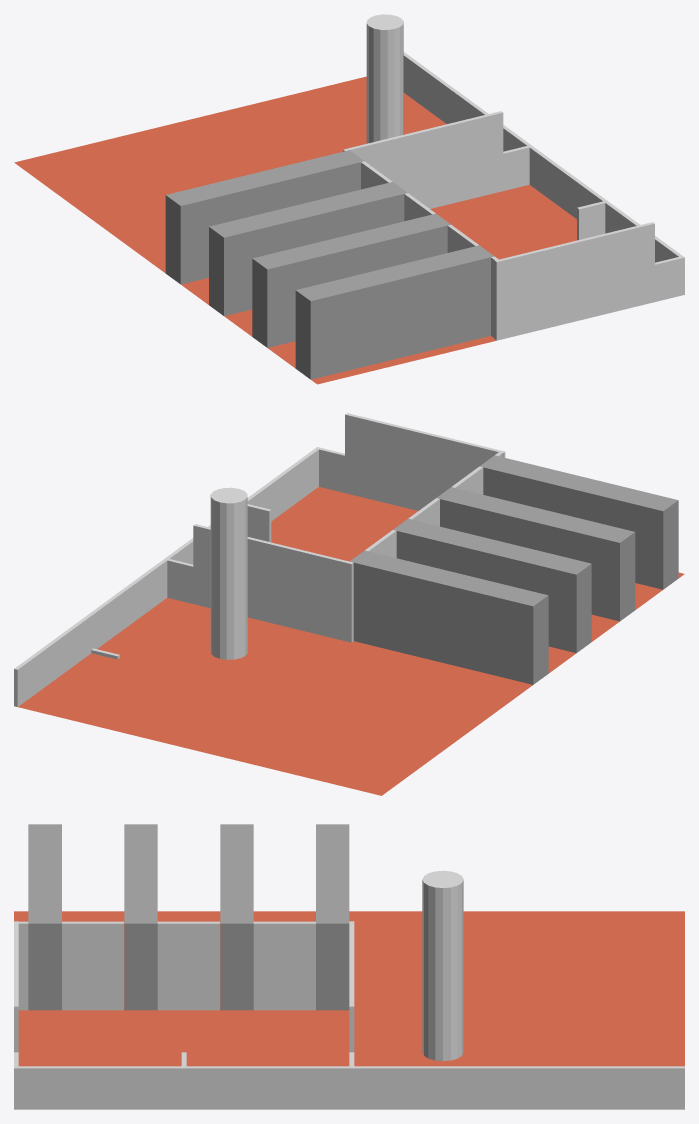
File: biblioteca-collisioni.dae
The picture shows the model from 3 angles, top to bottom: view 1: azimuth 30°, elevation 25°; view 2: azimuth 150°, elevation 25°; view 3: azimuth 270°, elevation 25°; orthographic projection. The views are drawn at different scales.
Parts seen in each view (by area): view 1: Pavimento.005, Placeholder.003, Cube.009, Placeholder.001, Placeholder.002, Placeholder, Cube.008, Cube, Cylinder, Cube.003, Cube.001, Cube.002; view 2: Pavimento.005, Placeholder, Placeholder.002, Placeholder.003, Placeholder.001, Cube.008, Cube.009, Cube, Cylinder, Cube.003, Cube.001, Cube.002; view 3: Pavimento.005, Cube, Cylinder, Placeholder.003, Placeholder.002, Placeholder.001, Placeholder, Cube.006, Cube.005, Cube.007, Cube.010, Cube.008 (+1 smaller).
Part boxes in pixels (x1,y1,x2,y2): Pavimento.005: (14,76,576,384); Placeholder.003: (295,245,494,379); Cube.009: (494,222,654,340); Placeholder.001: (209,182,407,316); Placeholder.002: (252,213,450,347); Placeholder: (165,150,364,284); Cube.008: (343,111,503,208); Cube: (403,52,684,295); Cylinder: (366,14,403,143); Cube.003: (503,146,529,190); Cube.001: (655,257,681,301); Cube.002: (577,201,605,240); Pavimento.005: (18,487,684,795); Placeholder: (350,550,548,684); Placeholder.002: (436,487,635,621); Placeholder.003: (480,455,678,589); Placeholder.001: (393,519,591,653); Cube.008: (193,524,353,642); Cube.009: (345,413,505,510); Cube: (14,447,320,706); Cylinder: (210,487,247,659); Cube.003: (167,559,193,603); Cube.001: (319,448,344,492); Cube.002: (247,504,271,542); Pavimento.005: (14,911,684,1066); Cube: (14,1066,684,1109); Cylinder: (422,870,463,1061); Placeholder.003: (28,824,61,1010); Placeholder.002: (124,824,157,1010); Placeholder.001: (220,824,253,1010); Placeholder: (316,824,349,1010); Cube.006: (157,921,219,1010); Cube.005: (253,921,315,1010); Cube.007: (62,921,123,1010); Cube.010: (18,921,28,1010); Cube.008: (349,921,354,1052).
Bounding box in the file's own units: 9.8 × 14 × 3.98.
